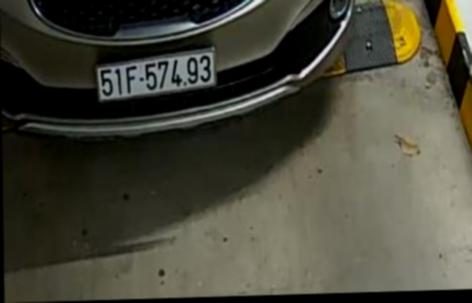License_Plate: (97, 47, 224, 106)
